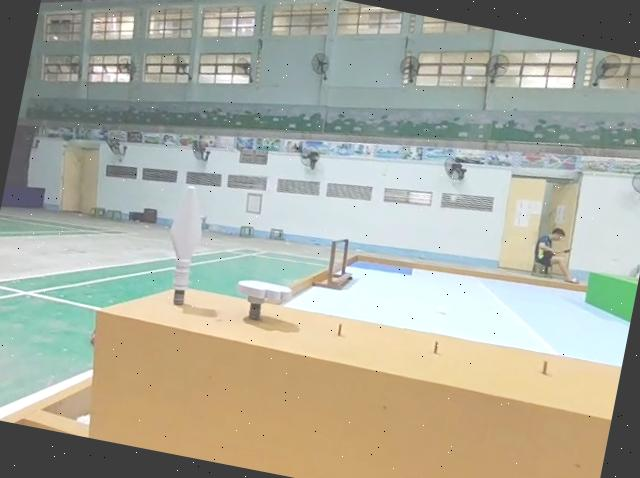Hand: (228, 271, 295, 326)
Sph: (154, 182, 212, 310)
